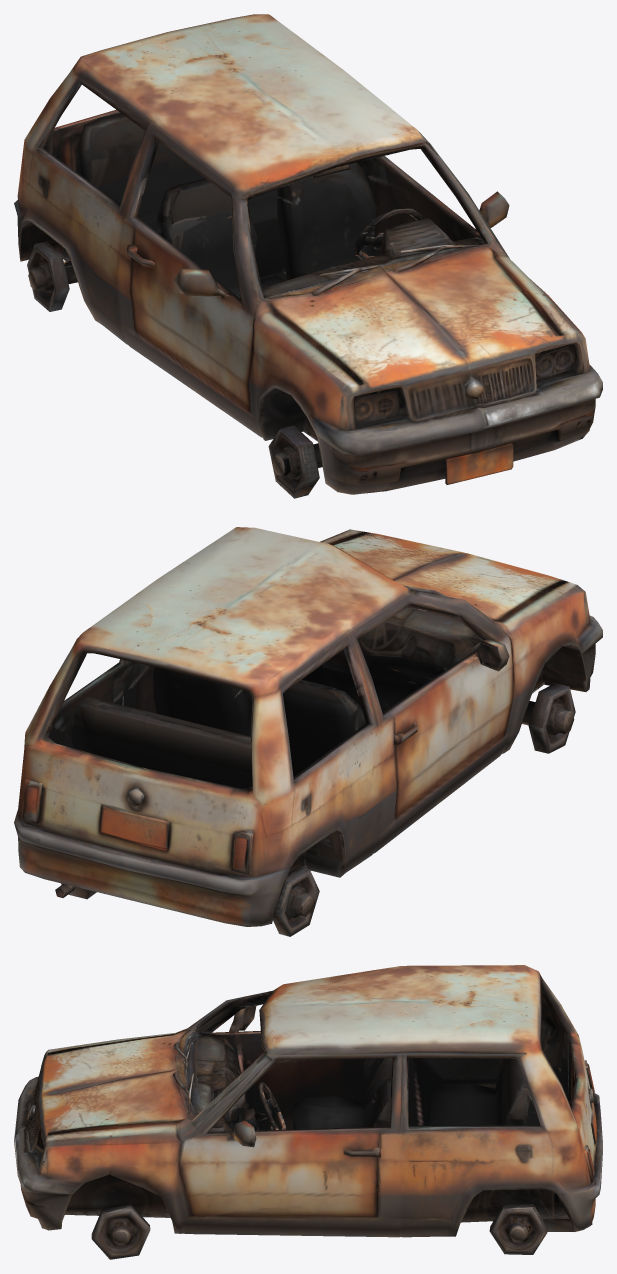
The model's file is car_small.fbx.
The picture shows the model from 3 angles, top to bottom: view 1: azimuth 30°, elevation 25°; view 2: azimuth 150°, elevation 25°; view 3: azimuth 270°, elevation 25°; orthographic projection. The views are drawn at different scales.
Parts seen in each view (by area): view 1: input; view 2: input; view 3: input.
Boxes of the visible parts, x1,y1,x2,y2 form: input: [14, 14, 602, 498]; input: [14, 527, 602, 936]; input: [14, 965, 602, 1259].
Size of the model in its own units: 107 by 76.67 by 200.
Materials: 1 (1 with a texture image).
